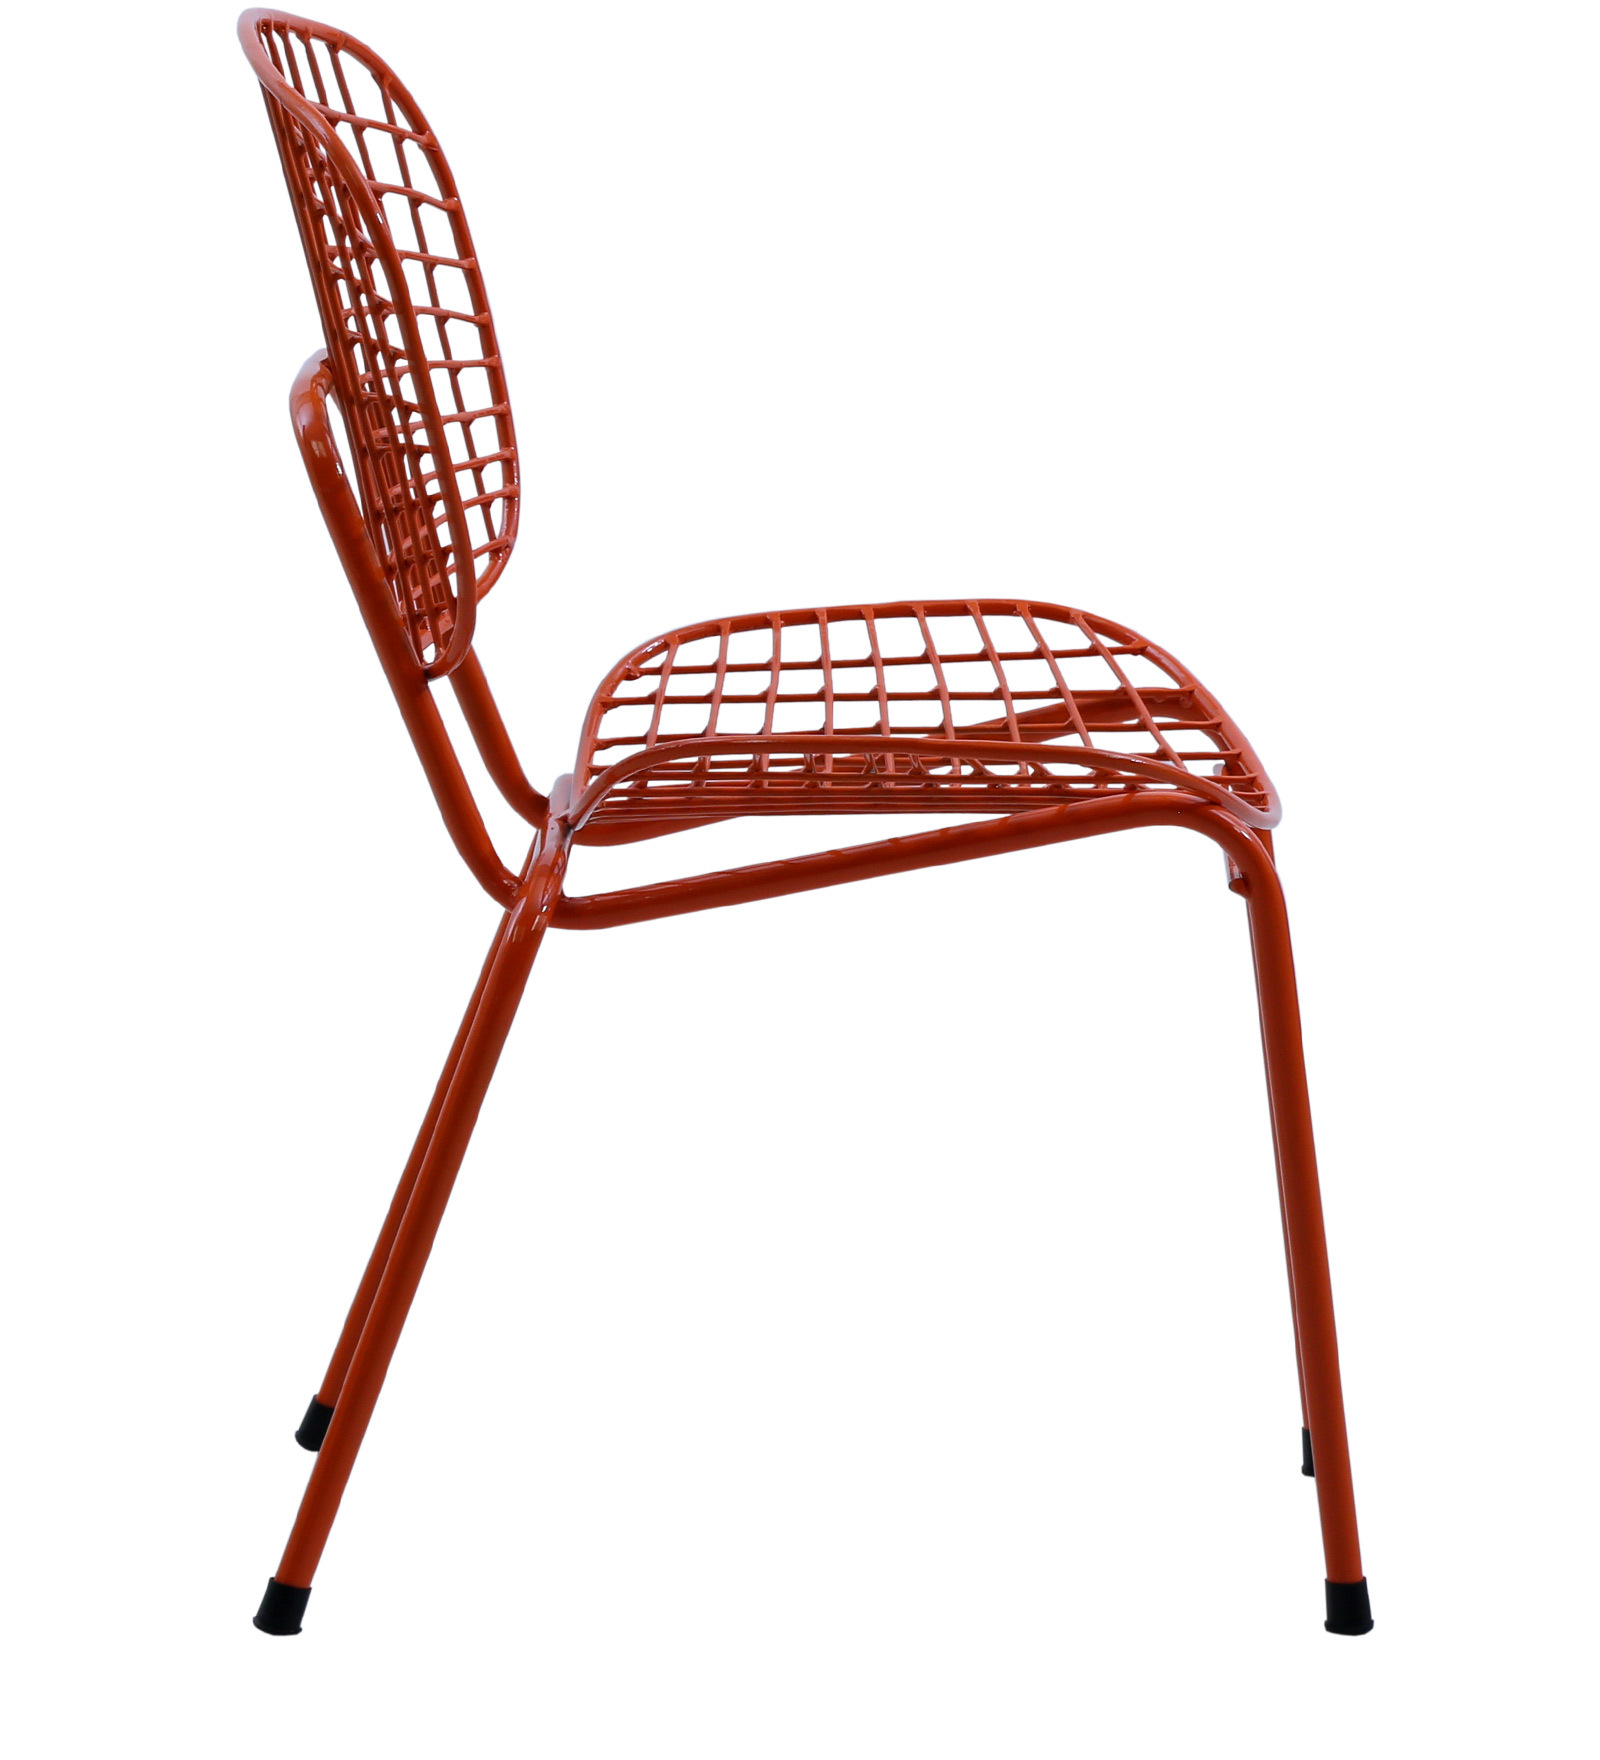Annette Metal Chair in Orange Color by Bohemiana: (156, 9, 1447, 1688)
